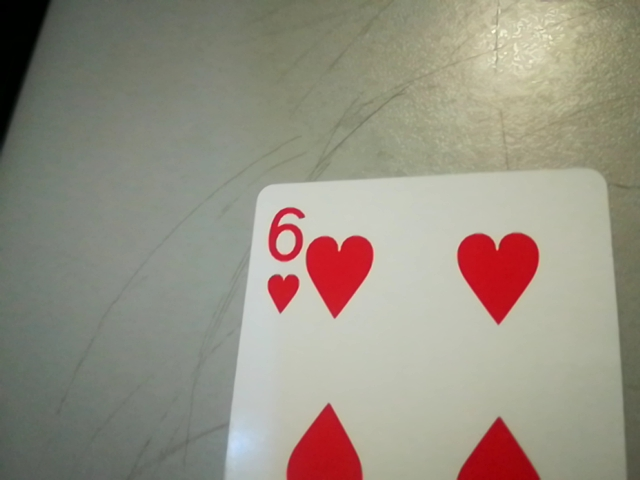hx 6: (255, 202, 308, 314)
